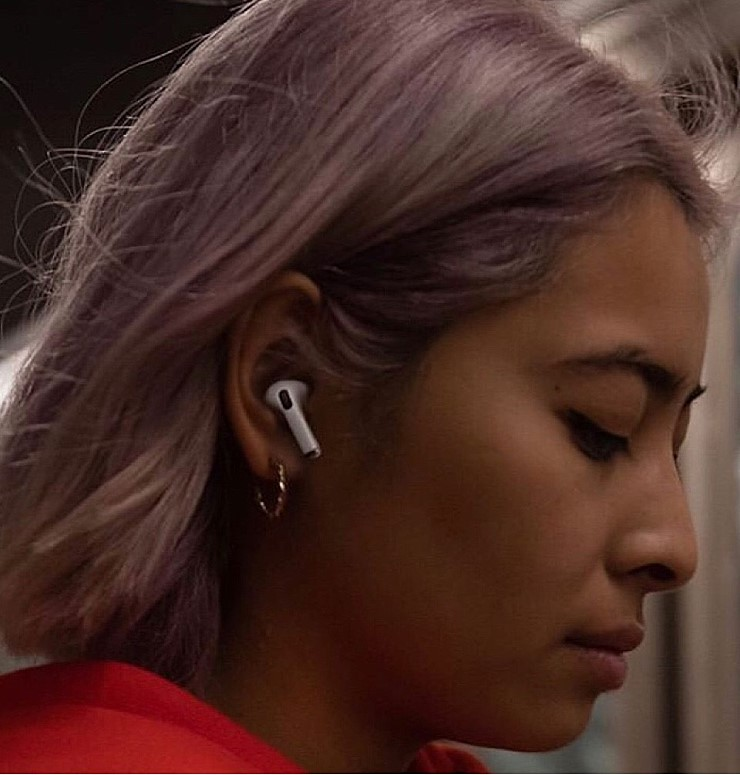earphone: (224, 269, 328, 481)
